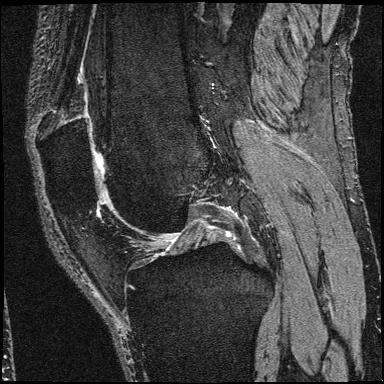SagKneeJointArea: (35, 117, 276, 327)
